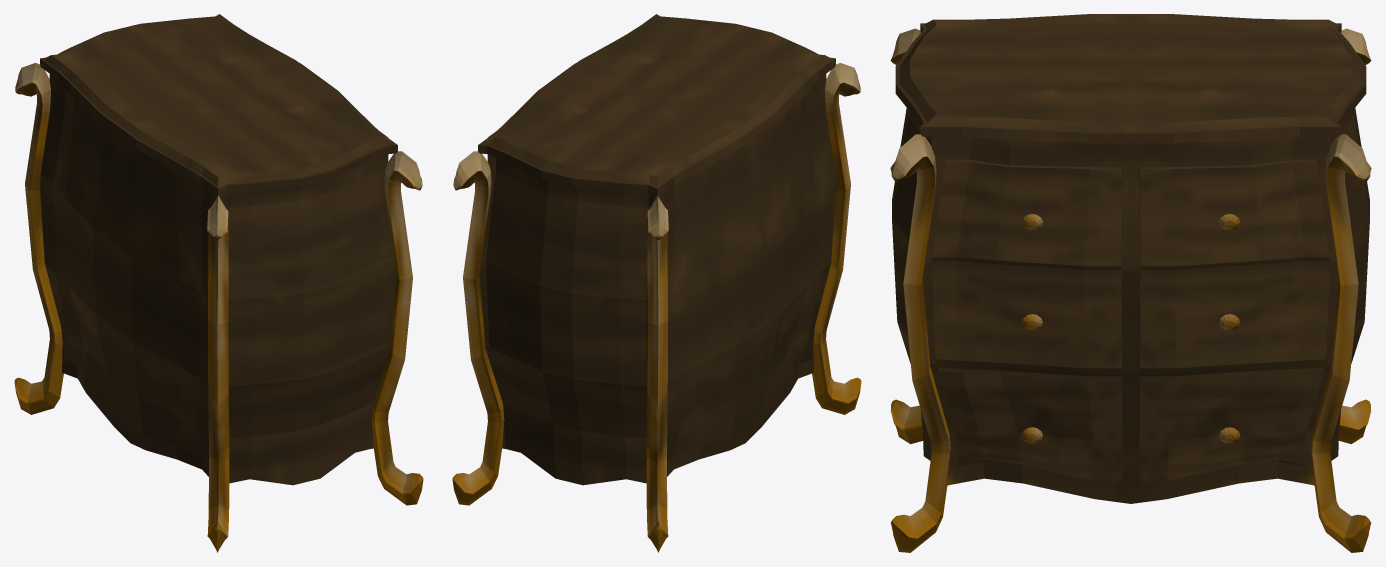
The model's file is E_DrawerBig.fbx.
3 views of the same model, side by side, from view 1: azimuth 30°, elevation 25°; view 2: azimuth 150°, elevation 25°; view 3: azimuth 270°, elevation 25° (orthographic). The views are drawn at different scales.
Visible parts, largest first — view 1: Cube.071; view 2: Cube.071; view 3: Cube.071.
Part boxes in pixels (x1=…): Cube.071: x1=14, y1=14, x2=423, y2=552; Cube.071: x1=452, y1=14, x2=861, y2=552; Cube.071: x1=890, y1=14, x2=1371, y2=552.
Size of the model in its own units: 103 by 165 by 167.
